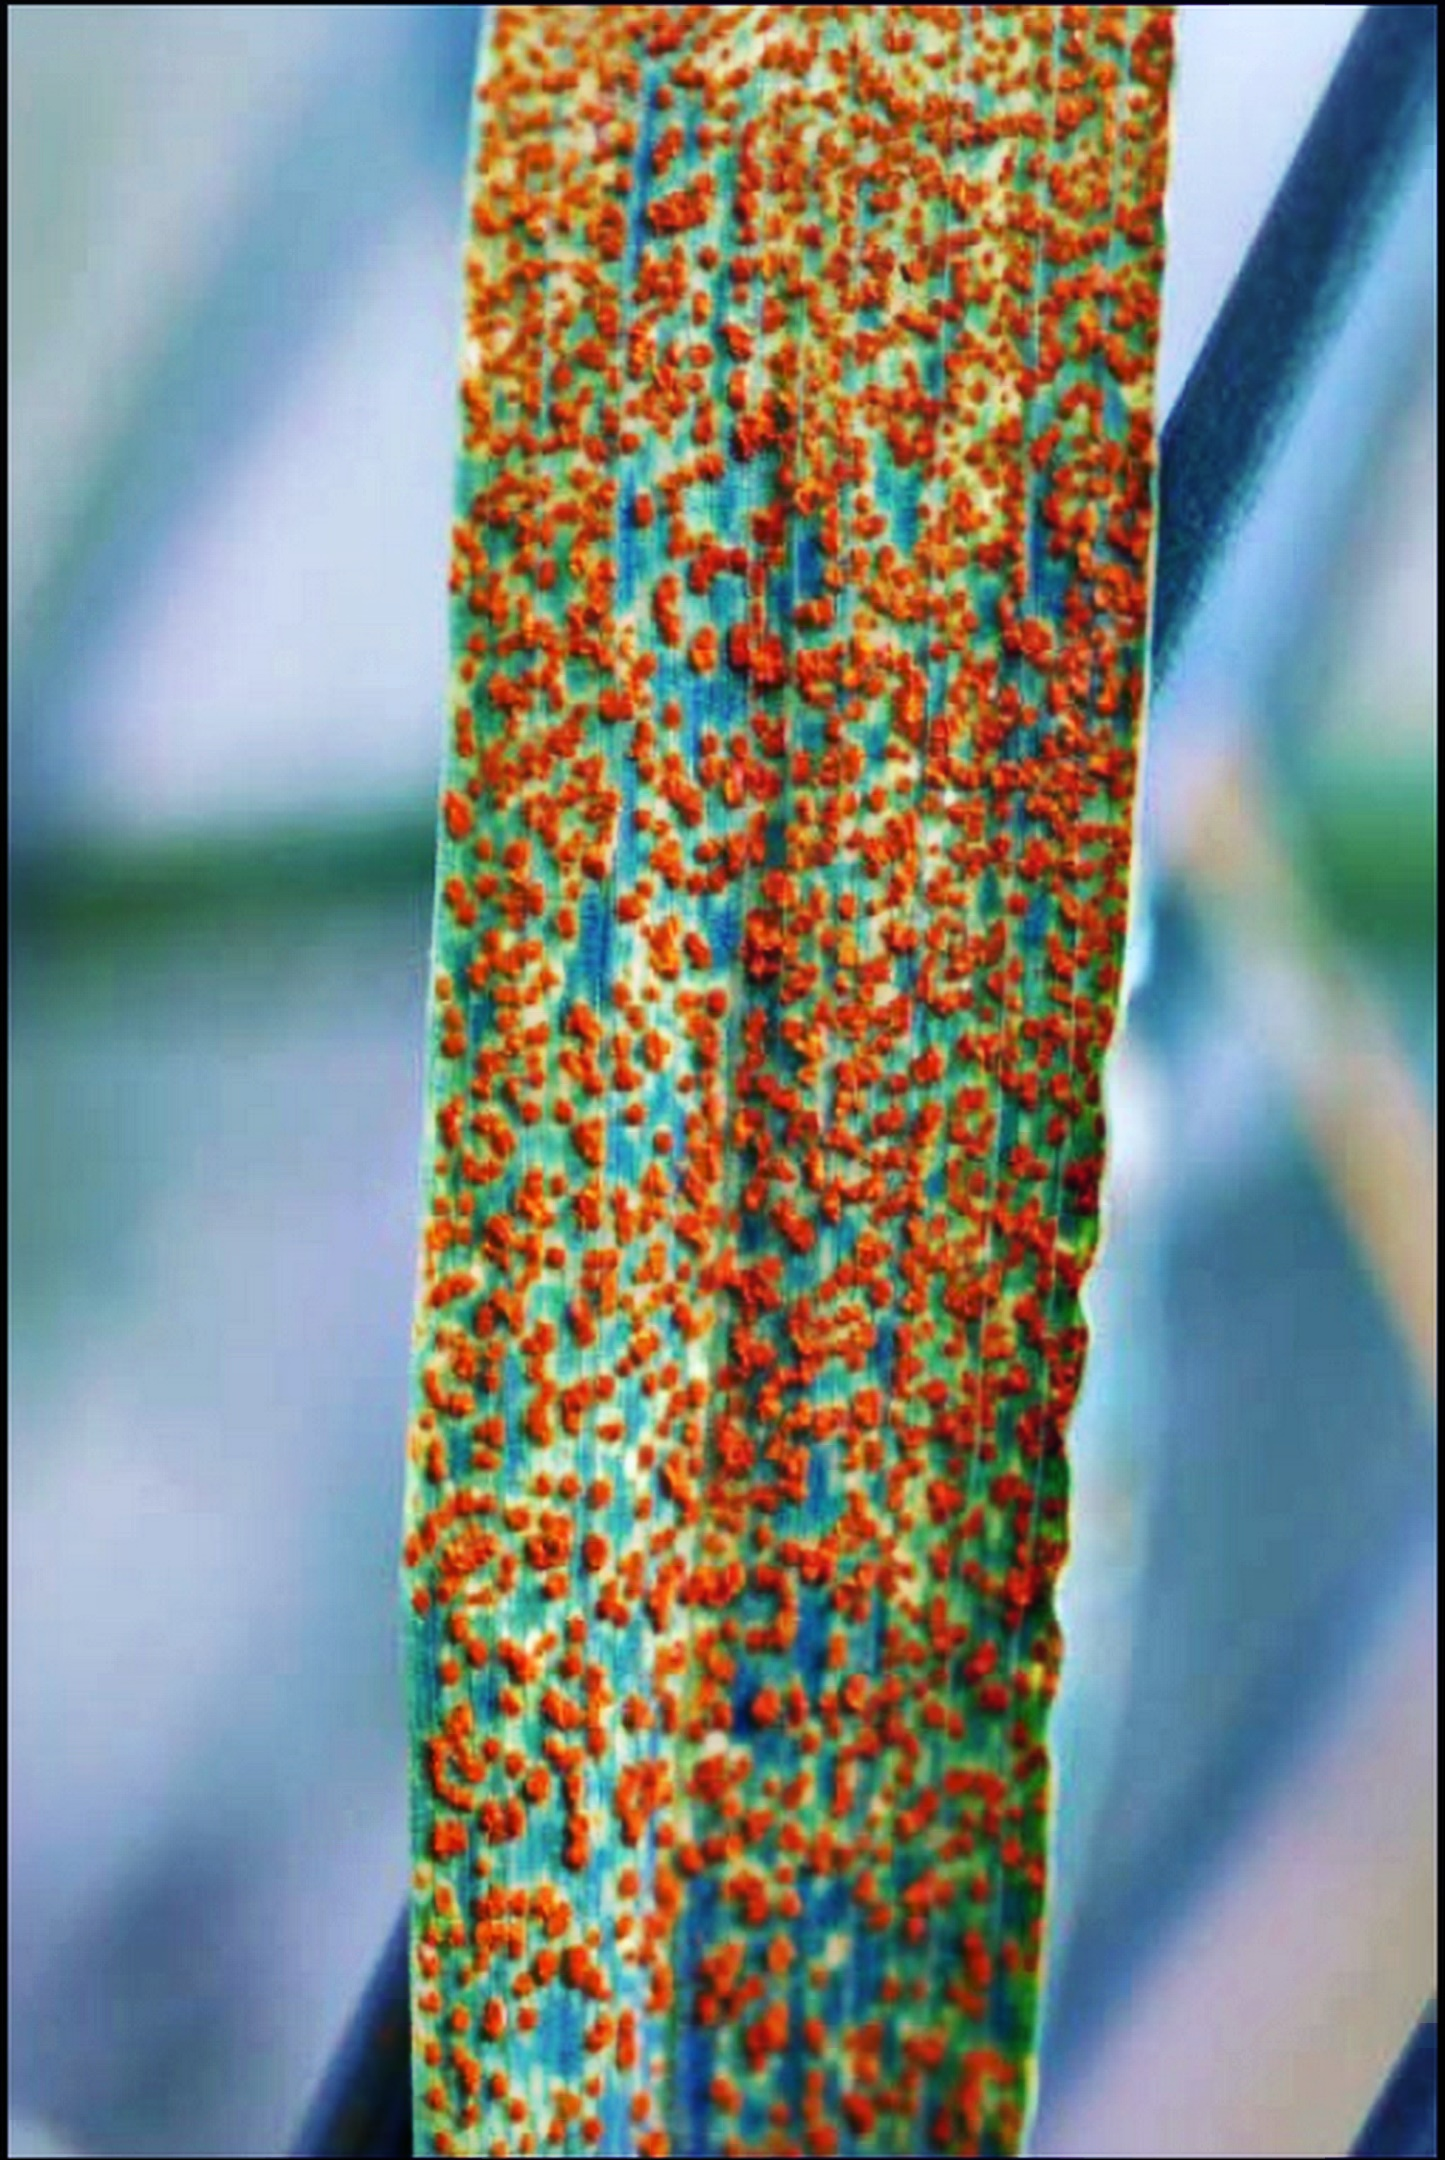Leaf Rust: (374, 29, 1214, 1931)
